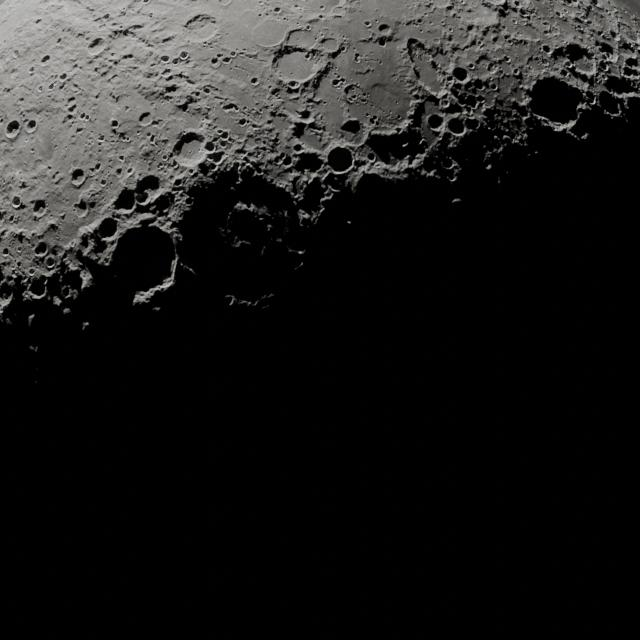crater: (107, 224, 178, 296), (524, 74, 584, 131), (286, 110, 321, 141), (106, 24, 144, 52), (185, 16, 221, 44), (325, 146, 354, 173), (85, 34, 115, 60), (322, 171, 348, 192), (572, 56, 597, 77), (318, 36, 341, 55), (27, 279, 47, 299), (446, 116, 466, 136), (461, 93, 484, 110), (426, 113, 446, 132), (72, 198, 90, 218), (5, 119, 22, 140), (70, 168, 87, 188), (207, 150, 226, 167), (406, 37, 423, 56), (43, 220, 60, 237), (377, 20, 394, 37), (596, 40, 614, 56), (344, 84, 361, 100), (81, 189, 99, 204), (33, 242, 49, 258), (64, 96, 79, 113), (60, 285, 76, 300), (138, 111, 154, 125), (25, 118, 38, 134), (465, 117, 480, 130), (11, 195, 24, 210), (1, 288, 13, 304), (441, 157, 455, 170), (286, 79, 300, 91), (225, 102, 240, 113), (44, 256, 56, 269), (209, 56, 222, 68), (203, 140, 216, 152), (171, 176, 184, 188), (518, 6, 531, 18), (624, 57, 637, 69), (183, 75, 197, 86), (298, 109, 312, 120), (50, 171, 62, 183), (440, 98, 452, 110), (40, 54, 52, 66), (281, 155, 294, 166), (124, 166, 136, 177), (78, 111, 90, 122), (218, 130, 230, 141), (270, 86, 282, 97), (161, 68, 174, 78), (446, 172, 458, 182), (331, 77, 343, 87), (201, 85, 213, 95), (178, 50, 190, 60), (366, 151, 376, 162), (292, 143, 303, 153), (487, 81, 498, 91), (48, 81, 58, 91), (27, 267, 37, 277), (250, 76, 260, 86), (160, 54, 170, 64), (541, 44, 551, 54), (221, 56, 232, 65), (93, 162, 102, 172), (148, 134, 157, 144), (160, 152, 170, 161), (369, 115, 379, 124), (58, 72, 68, 81), (353, 53, 362, 63), (99, 178, 108, 187), (110, 119, 119, 128), (304, 51, 313, 60), (237, 118, 247, 126), (272, 6, 282, 14), (117, 154, 126, 162), (172, 56, 181, 64), (96, 134, 105, 142), (36, 84, 44, 93), (115, 167, 123, 176), (1, 248, 10, 256), (541, 21, 550, 29), (28, 66, 36, 74), (467, 62, 475, 70), (364, 20, 372, 28), (304, 24, 312, 31), (34, 18, 42, 25), (103, 13, 110, 20), (229, 51, 237, 57), (318, 5, 326, 11), (317, 14, 324, 20)
rock: (604, 72, 638, 100), (111, 186, 139, 214), (290, 150, 324, 173), (559, 42, 591, 65), (597, 89, 623, 116), (134, 174, 161, 198), (95, 217, 118, 240), (339, 118, 361, 136), (451, 66, 469, 82), (32, 199, 48, 217), (87, 36, 104, 50)
